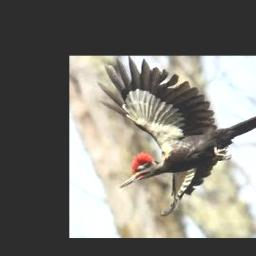Woodpecker: (97, 56, 256, 215)
